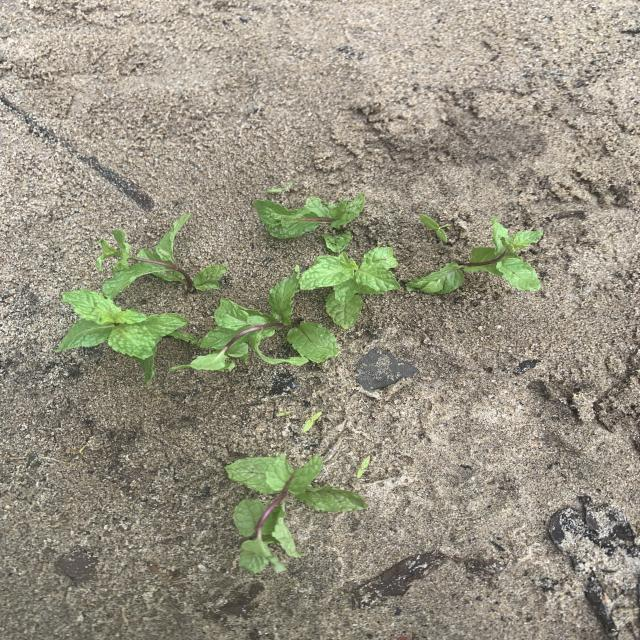crop: (226, 455, 367, 573), (186, 273, 338, 370), (56, 290, 196, 386), (97, 215, 227, 299), (407, 223, 543, 294), (300, 247, 401, 329), (254, 194, 364, 253)
weed: (419, 214, 451, 243), (301, 411, 322, 433), (356, 455, 371, 479), (272, 409, 293, 419)
